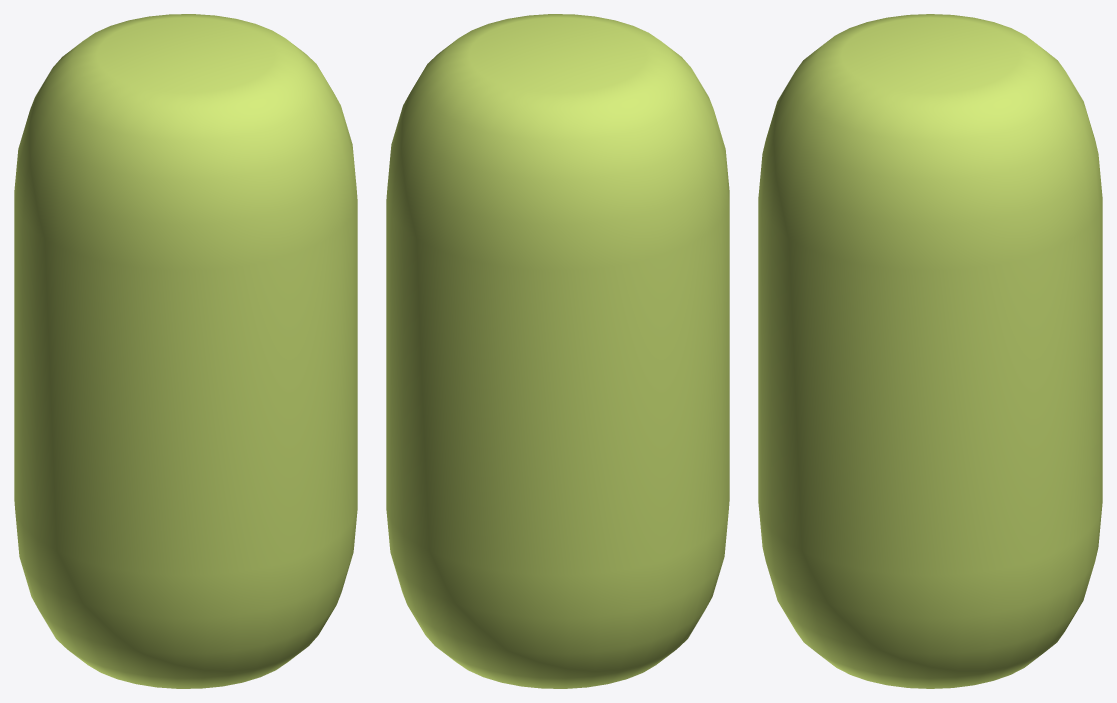
The model's file is Player.fbx.
3 views of the same model, side by side, from view 1: azimuth 30°, elevation 25°; view 2: azimuth 150°, elevation 25°; view 3: azimuth 270°, elevation 25° (orthographic).
Parts seen in each view (by area): view 1: Cylinder; view 2: Cylinder; view 3: Cylinder.
Part boxes in pixels (<box>): Cylinder: <box>14,14,357,688</box>; Cylinder: <box>386,14,729,688</box>; Cylinder: <box>758,14,1102,688</box>.
Bounding box in the file's own units: 200 × 380 × 200.
